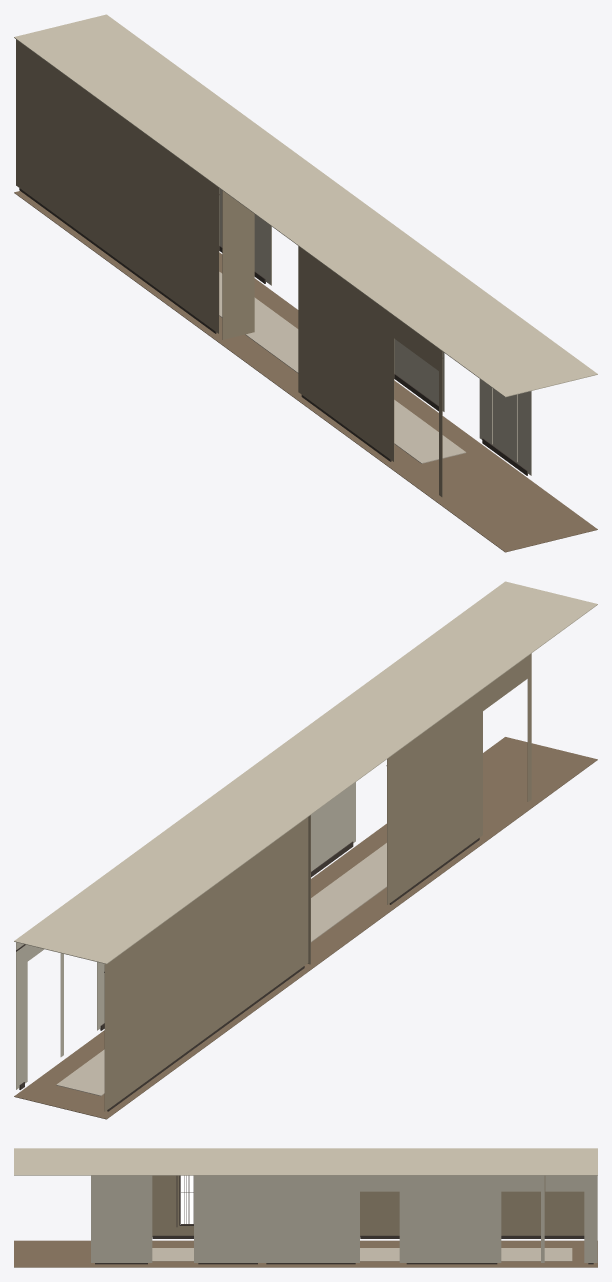
Rendered from corridor-1.glb.
The picture shows the model from 3 angles, top to bottom: view 1: azimuth 30°, elevation 25°; view 2: azimuth 150°, elevation 25°; view 3: azimuth 270°, elevation 25°; orthographic projection. The views are drawn at different scales.
Parts seen in each view (by area): view 1: DESIGN | Entrance coordinated ceiling, DESIGN | Entrance paired wall finish, DESIGN | Entrance floor finish, DESIGN | Entrance paired wall finish.003, DESIGN | Entrance quiet runner, DESIGN | Arch approach finish, DESIGN | Entrance paired wall finish.013, DESIGN | Entrance paired wall finish.012, DESIGN | Entrance paired wall finish.006, DESIGN | Entrance paired wall finish.002; view 2: DESIGN | Entrance coordinated ceiling, DESIGN | Entrance paired wall finish, DESIGN | Entrance floor finish, DESIGN | Entrance paired wall finish.003, DESIGN | Entrance quiet runner, DESIGN | Entrance paired wall finish.012, DESIGN | Entrance paired wall finish.005, DESIGN | Entrance paired wall finish.002, DESIGN | Entrance paired wall finish.001; view 3: DESIGN | Entrance coordinated ceiling, DESIGN | Entrance paired wall finish.006, DESIGN | Entrance paired wall finish.009, DESIGN | Entrance floor finish, DESIGN | Entrance paired wall finish.012, DESIGN | Entrance paired wall finish, DESIGN | Entrance paired wall finish.013, DESIGN | Entrance quiet runner, DESIGN | Entrance paired wall finish.003, DESIGN | Entrance paired wall finish.005, DESIGN | Cedar light and a limestone counterwall diffuse bac, DESIGN | Entrance paired wall finish.007 (+7 smaller).
Part boxes in pixels (left/top/right/bottom): DESIGN | Entrance coordinated ceiling: left=14, top=14, right=597, bottom=397; DESIGN | Entrance paired wall finish: left=16, top=39, right=219, bottom=333; DESIGN | Entrance floor finish: left=14, top=191, right=597, bottom=552; DESIGN | Entrance paired wall finish.003: left=298, top=246, right=394, bottom=461; DESIGN | Entrance quiet runner: left=219, top=272, right=466, bottom=463; DESIGN | Arch approach finish: left=222, top=190, right=254, bottom=339; DESIGN | Entrance paired wall finish.013: left=479, top=379, right=531, bottom=475; DESIGN | Entrance paired wall finish.012: left=394, top=339, right=444, bottom=411; DESIGN | Entrance paired wall finish.006: left=219, top=188, right=268, bottom=283; DESIGN | Entrance paired wall finish.002: left=394, top=316, right=438, bottom=370; DESIGN | Entrance coordinated ceiling: left=14, top=581, right=597, bottom=964; DESIGN | Entrance paired wall finish: left=104, top=817, right=308, bottom=1111; DESIGN | Entrance floor finish: left=14, top=737, right=597, bottom=1119; DESIGN | Entrance paired wall finish.003: left=387, top=689, right=482, bottom=904; DESIGN | Entrance quiet runner: left=56, top=843, right=386, bottom=1096; DESIGN | Entrance paired wall finish.012: left=311, top=782, right=355, bottom=871; DESIGN | Entrance paired wall finish.005: left=16, top=942, right=27, bottom=1089; DESIGN | Entrance paired wall finish.002: left=483, top=656, right=527, bottom=710; DESIGN | Entrance paired wall finish.001: left=527, top=653, right=531, bottom=801; DESIGN | Entrance coordinated ceiling: left=14, top=1148, right=597, bottom=1175; DESIGN | Entrance paired wall finish.006: left=402, top=1175, right=501, bottom=1262; DESIGN | Entrance paired wall finish.009: left=262, top=1175, right=359, bottom=1262; DESIGN | Entrance floor finish: left=14, top=1240, right=597, bottom=1267; DESIGN | Entrance paired wall finish.012: left=194, top=1175, right=262, bottom=1262; DESIGN | Entrance paired wall finish: left=360, top=1176, right=584, bottom=1236; DESIGN | Entrance paired wall finish.013: left=91, top=1175, right=152, bottom=1262; DESIGN | Entrance quiet runner: left=152, top=1248, right=572, bottom=1261; DESIGN | Entrance paired wall finish.003: left=152, top=1175, right=193, bottom=1236; DESIGN | Entrance paired wall finish.005: left=584, top=1175, right=597, bottom=1262; DESIGN | Cedar light and a limestone counterwall diffuse bac: left=180, top=1175, right=193, bottom=1224; DESIGN | Entrance paired wall finish.007: left=501, top=1175, right=540, bottom=1191.
Size of the model in its own units: 1.7 by 2.73 by 15.61.
